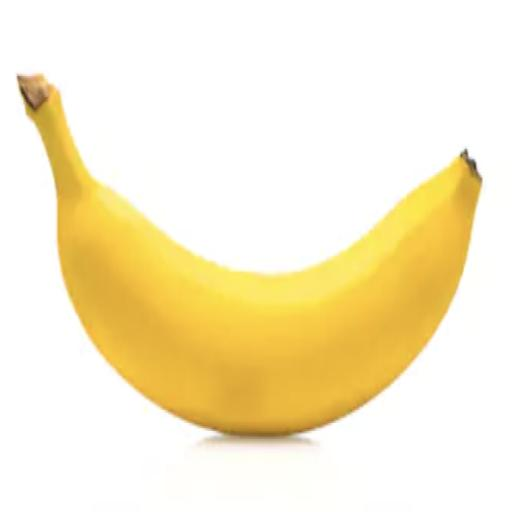banana: (19, 75, 481, 434)
